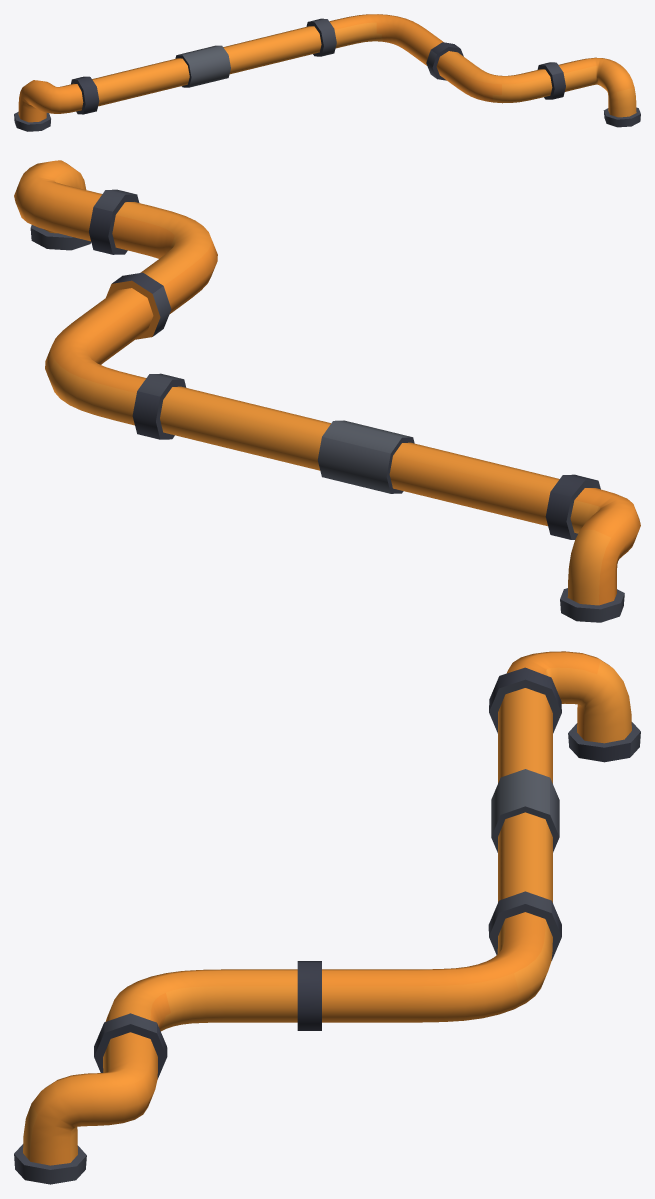
Rendered from SM_Pipe_2.fbx.
The picture shows the model from 3 angles, top to bottom: view 1: azimuth 30°, elevation 25°; view 2: azimuth 150°, elevation 25°; view 3: azimuth 270°, elevation 25°; orthographic projection. The views are drawn at different scales.
Visible parts, largest first — view 1: SM_Pipe_2; view 2: SM_Pipe_2; view 3: SM_Pipe_2.
Boxes of the visible parts, x1,y1,x2,y2 form: SM_Pipe_2: [14, 14, 640, 131]; SM_Pipe_2: [14, 160, 640, 622]; SM_Pipe_2: [14, 651, 640, 1184].
Size of the model in its own units: 892 by 94.73 by 522.
